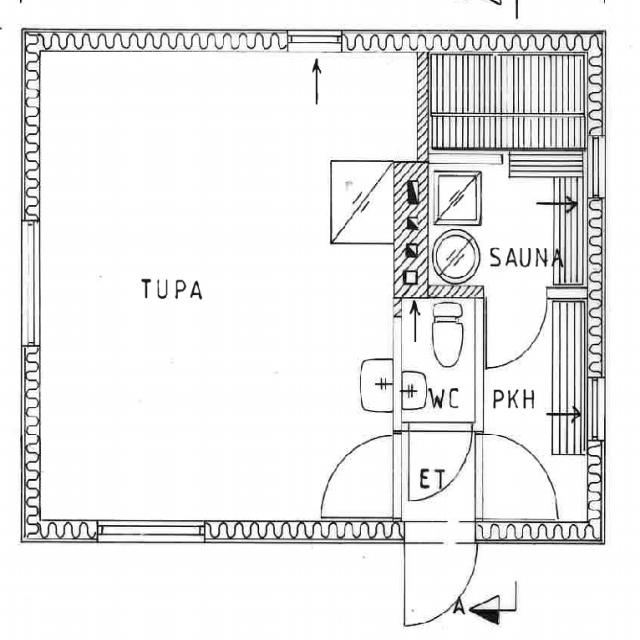door: (404, 520, 474, 621), (409, 422, 472, 502), (486, 286, 546, 367)
